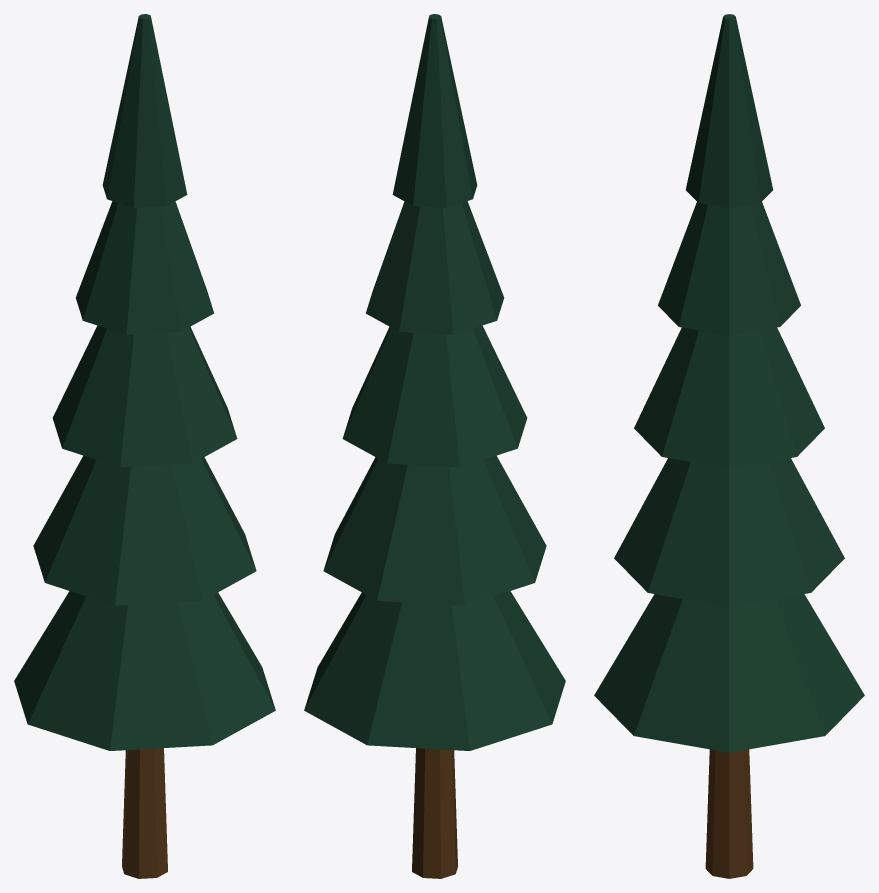
The model's file is tree_cedar.glb.
3 views of the same model, side by side, from view 1: azimuth 30°, elevation 25°; view 2: azimuth 150°, elevation 25°; view 3: azimuth 270°, elevation 25° (orthographic).
Visible parts, largest first — view 1: leaf_dark, wood; view 2: leaf_dark, wood; view 3: leaf_dark, wood.
Part boxes in pixels (<box>): leaf_dark: <box>14,14,275,750</box>; wood: <box>122,748,167,878</box>; leaf_dark: <box>304,14,565,750</box>; wood: <box>412,748,457,878</box>; leaf_dark: <box>594,14,864,752</box>; wood: <box>705,749,753,878</box>.
Bounding box in the file's own units: 3.4 × 11.8 × 3.4.
